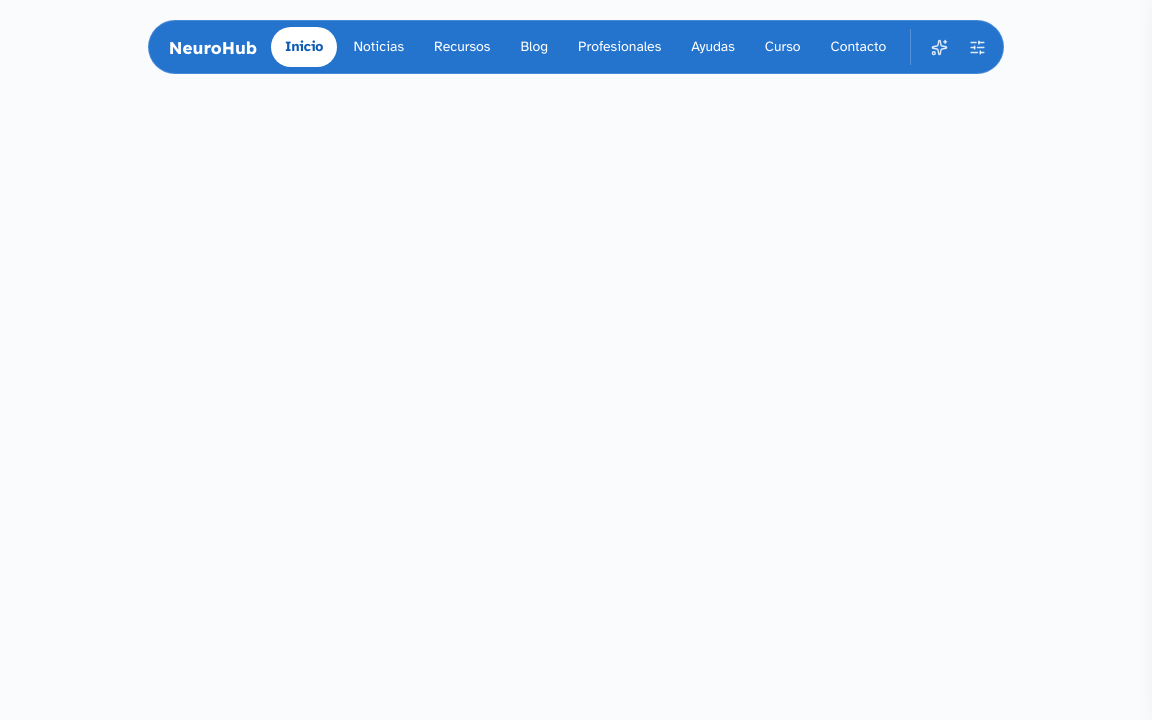
Test: Nav › opens the AccesibilidadPanel when "Ajustes UX" is clicked
The width and height of the screenshot is (1152, 720).
Click the button named "ajustes ux" at point(977, 47), box [959, 29, 995, 65]
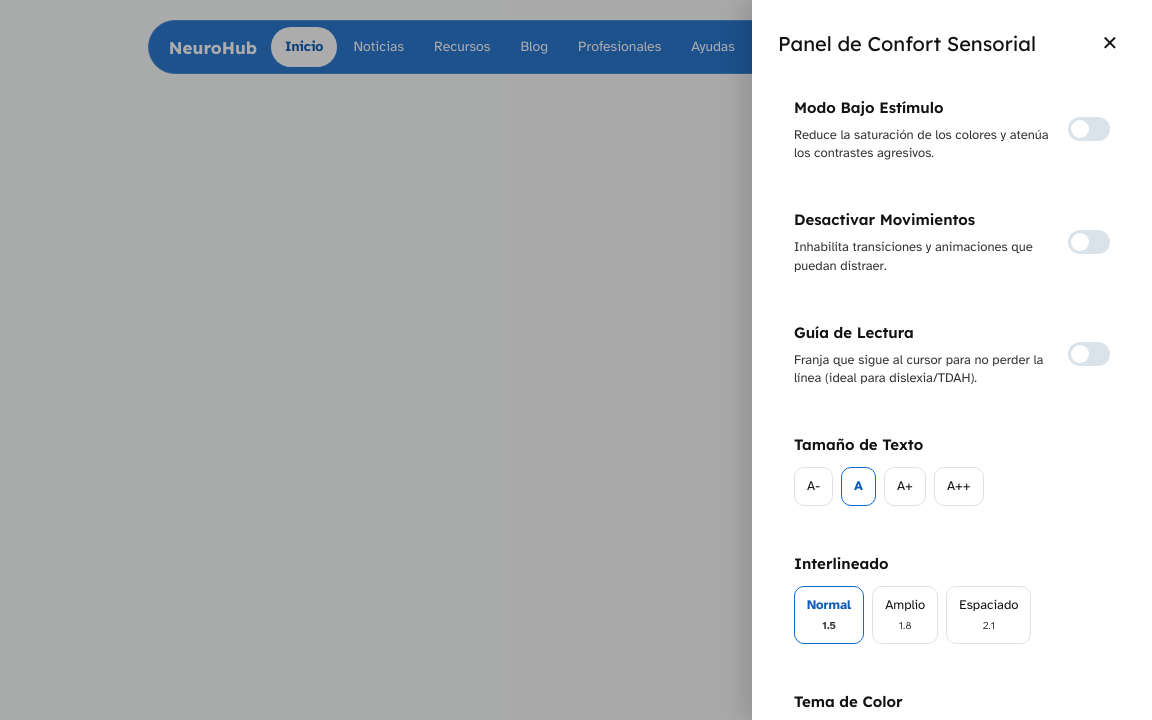
Expected: the button named "ajustes ux" is expanded, [959, 29, 995, 65]
